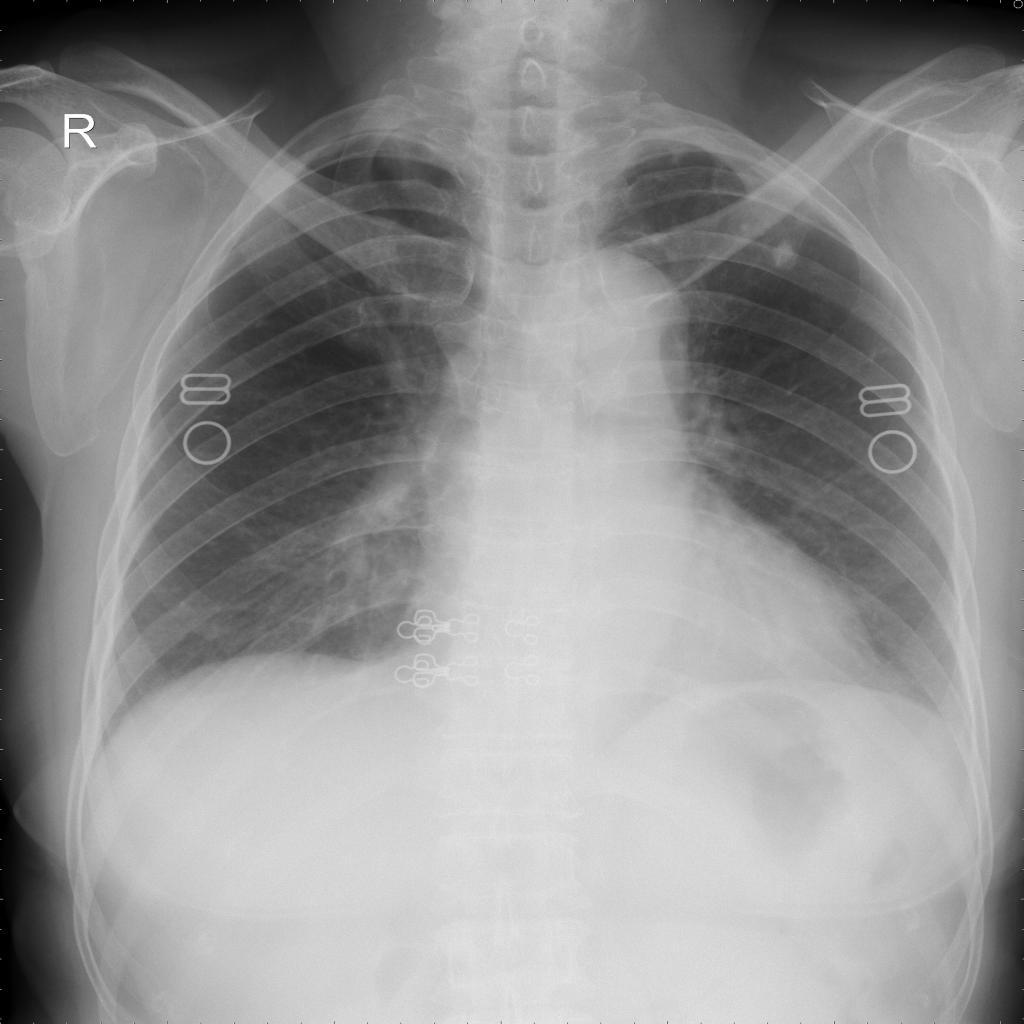Nodule: (765, 234, 797, 272)
